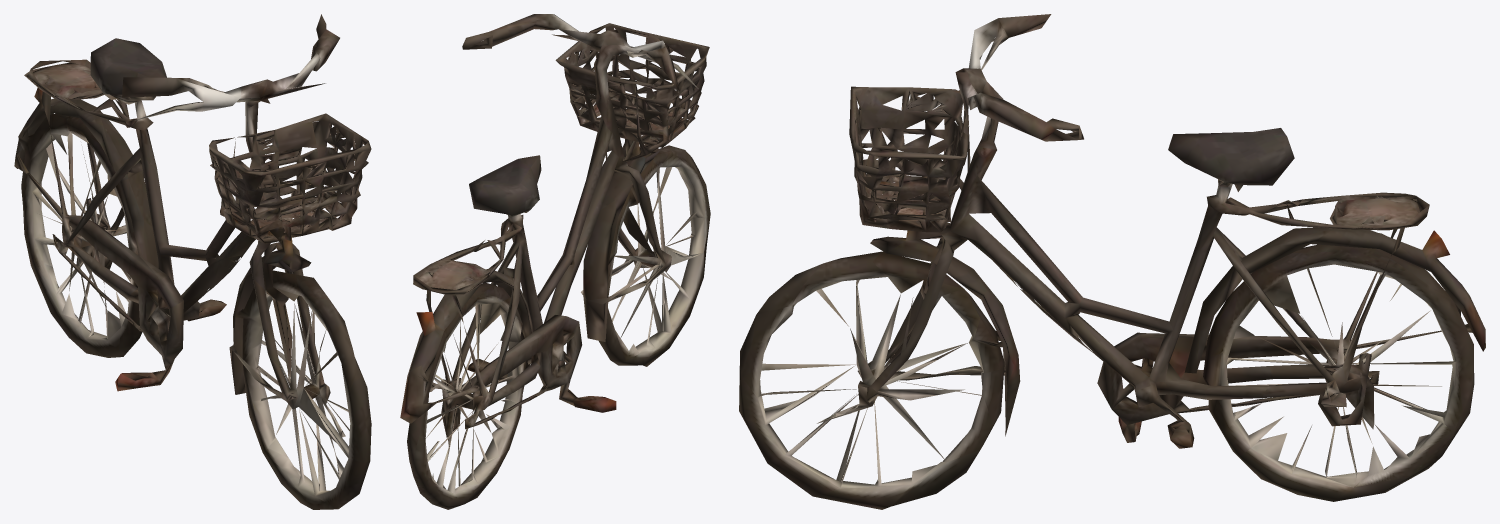
The model's file is bicycle_parked.glb.
The picture shows the model from 3 angles, left to right: view 1: azimuth 30°, elevation 25°; view 2: azimuth 150°, elevation 25°; view 3: azimuth 270°, elevation 25°; orthographic projection. The views are drawn at different scales.
Parts seen in each view (by area): view 1: tripo_node_72a8cc26-4210-4a9f-8f4f-2ce3a9fa7afb; view 2: tripo_node_72a8cc26-4210-4a9f-8f4f-2ce3a9fa7afb; view 3: tripo_node_72a8cc26-4210-4a9f-8f4f-2ce3a9fa7afb.
Boxes of the visible parts, bbox=[...] form: tripo_node_72a8cc26-4210-4a9f-8f4f-2ce3a9fa7afb: bbox=[14, 14, 371, 509]; tripo_node_72a8cc26-4210-4a9f-8f4f-2ce3a9fa7afb: bbox=[400, 14, 710, 509]; tripo_node_72a8cc26-4210-4a9f-8f4f-2ce3a9fa7afb: bbox=[739, 14, 1485, 509].
Size of the model in its own units: 0.6817 by 1.17 by 1.75.
1 material, 1 textured.
